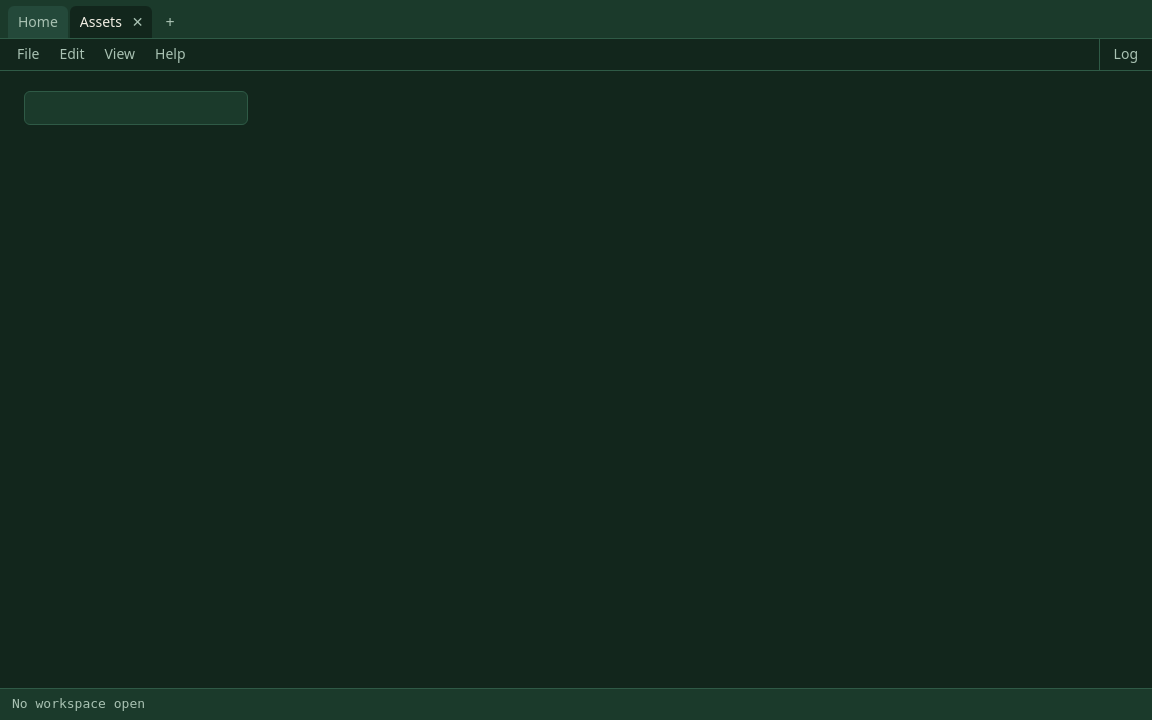
Scenario: Shell › the Log button shows and hides the log of the shown tab
Click the button "Log": (1125, 54) [1099,39,1151,70]
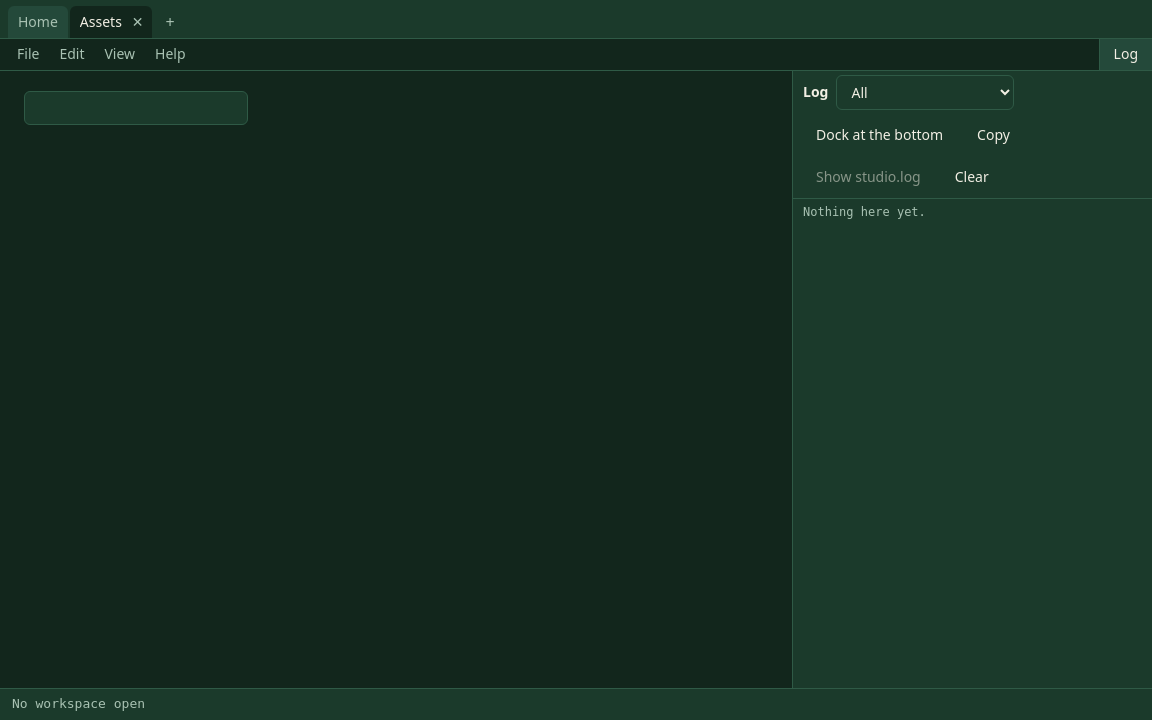
Check: the button "Log" is expanded, box [1099,39,1151,70]
